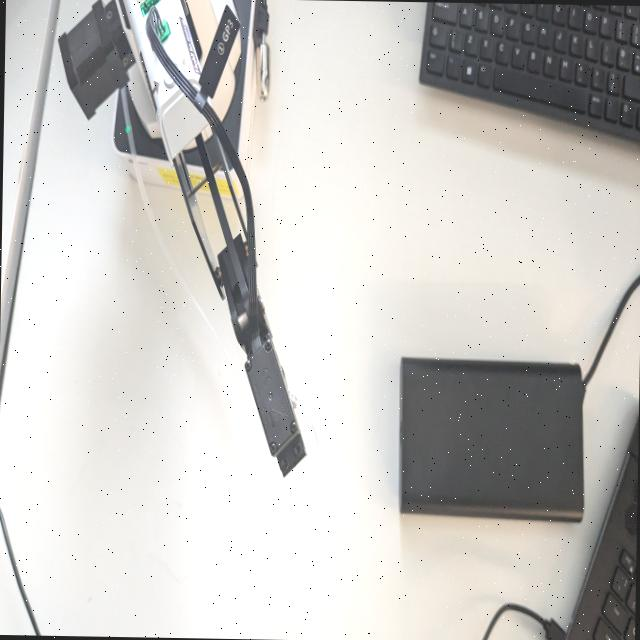Robot-end-effector-HF8z: (238, 331, 311, 482)
